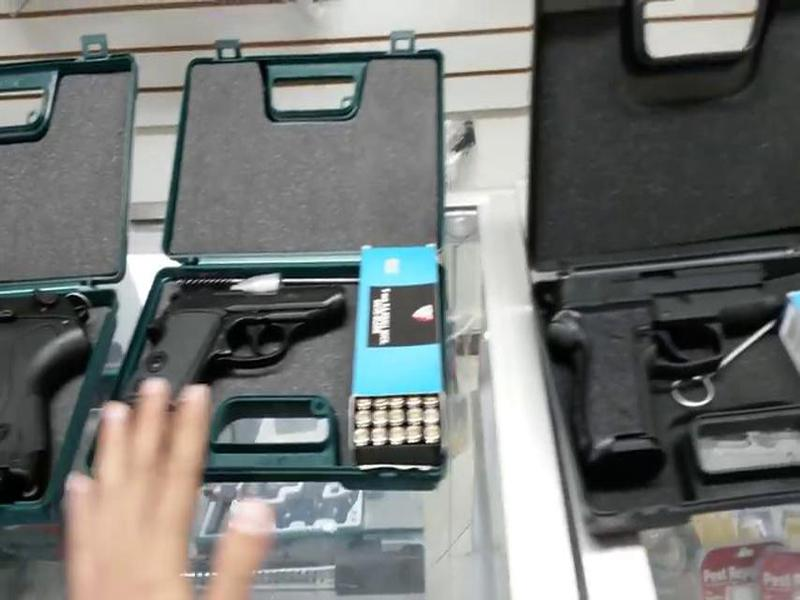Pistola: (127, 274, 347, 421)
